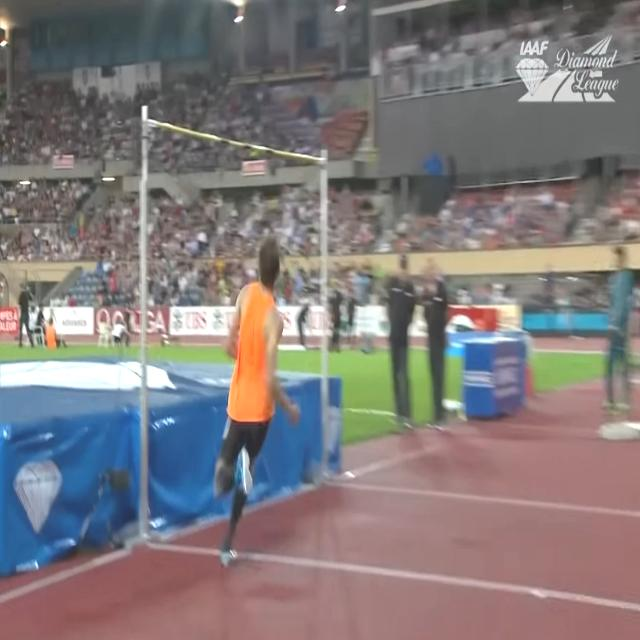jump: (212, 234, 301, 569)
